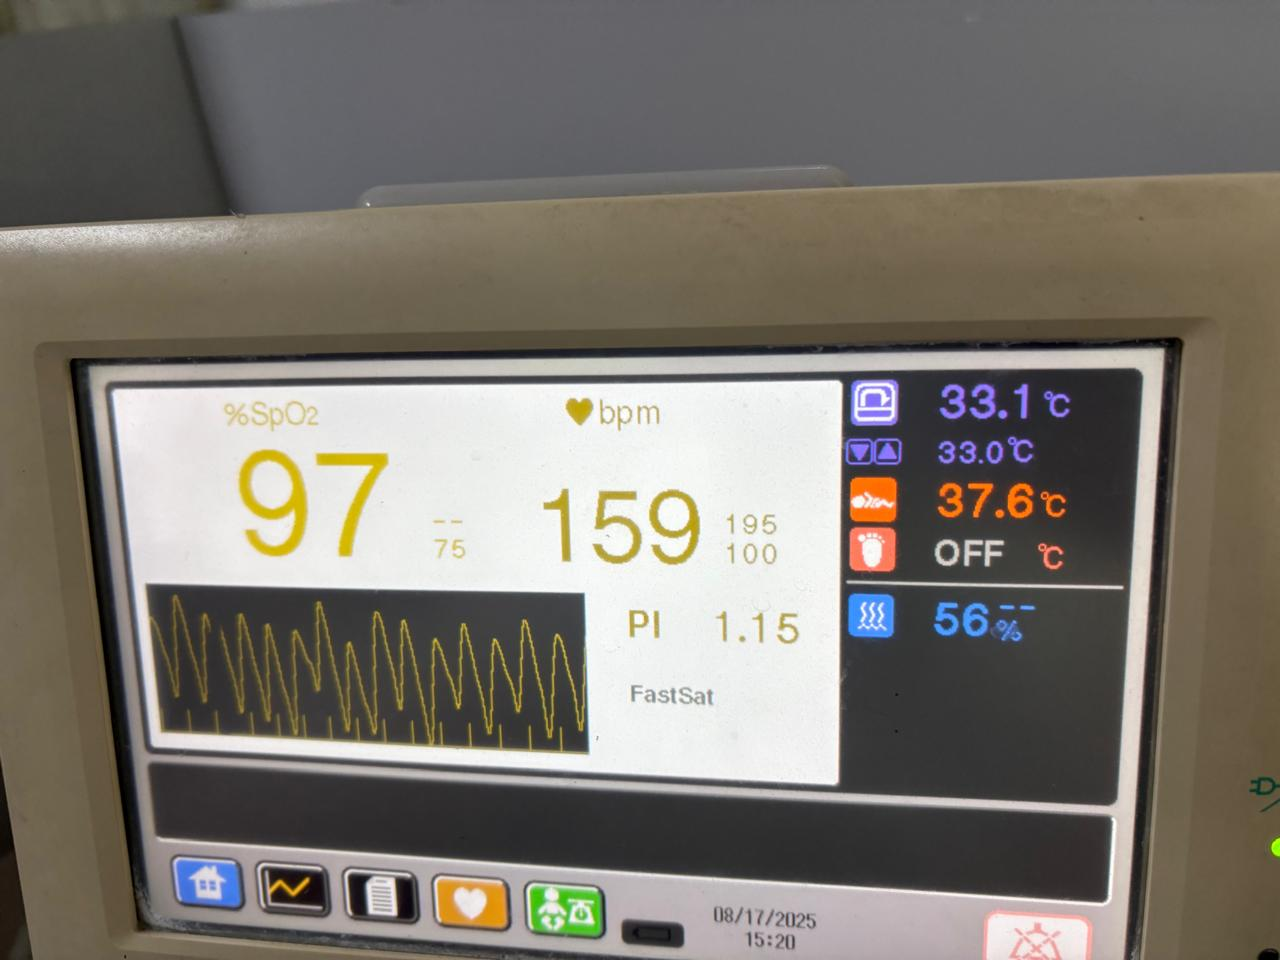heart_rate_value: (527, 471, 711, 583)
humidity_value: (913, 588, 1000, 646)
skin_temp_value: (926, 469, 1039, 528)
spo2_value: (205, 442, 409, 576)
